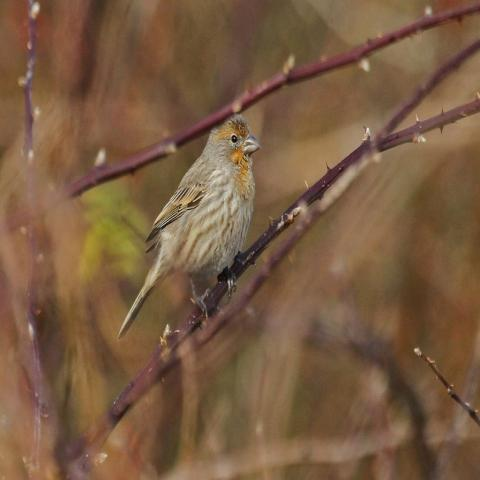bird: (116, 110, 262, 342)
